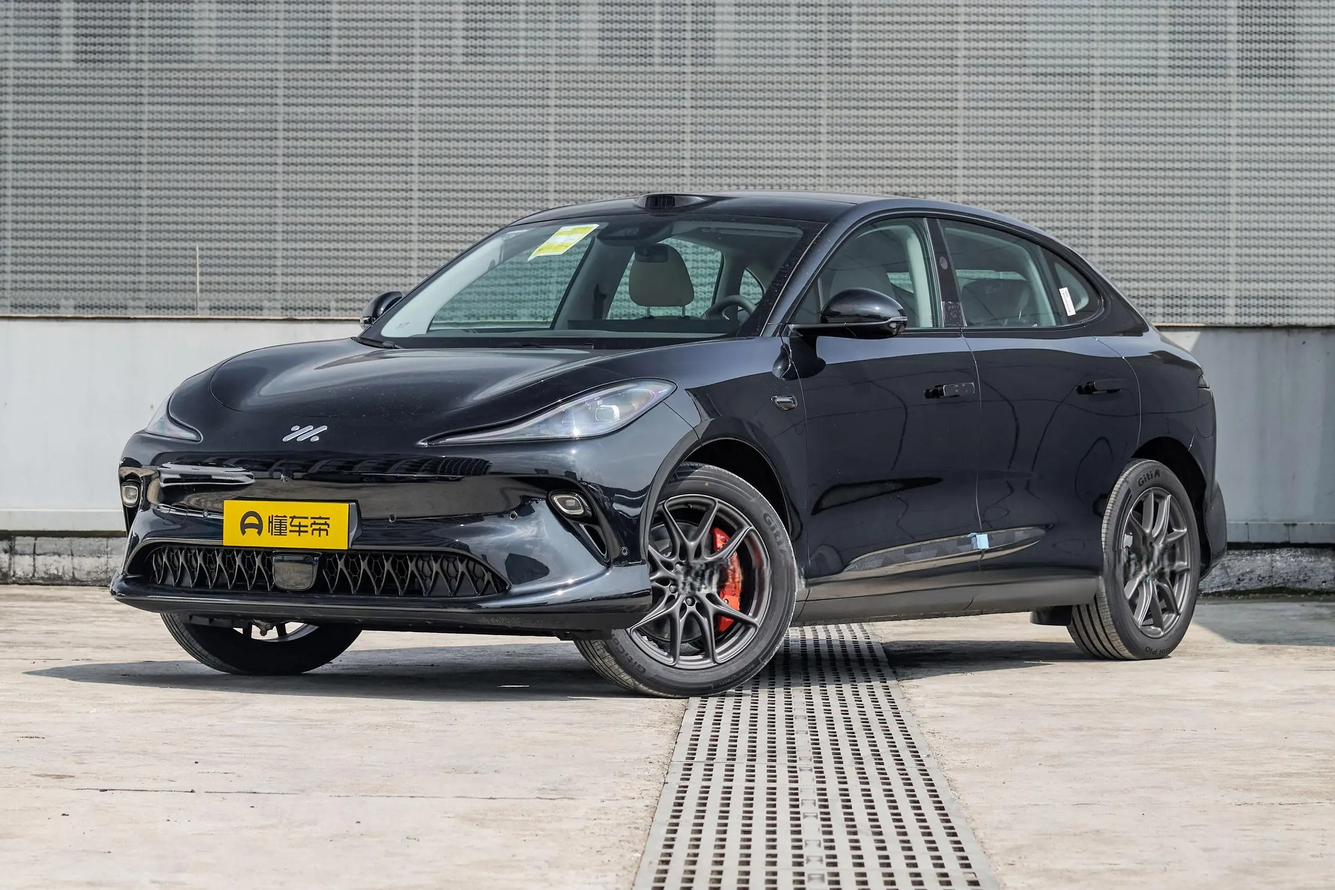IM: (283, 425, 327, 441)
